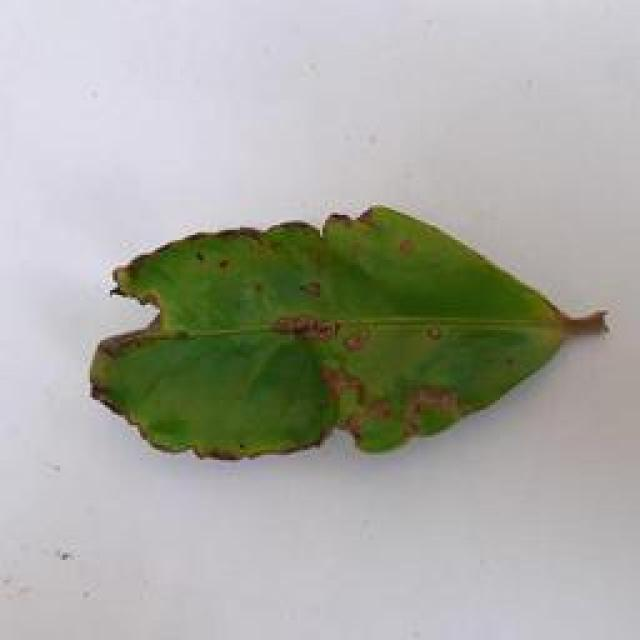Helopeltis: (75, 180, 628, 494)
